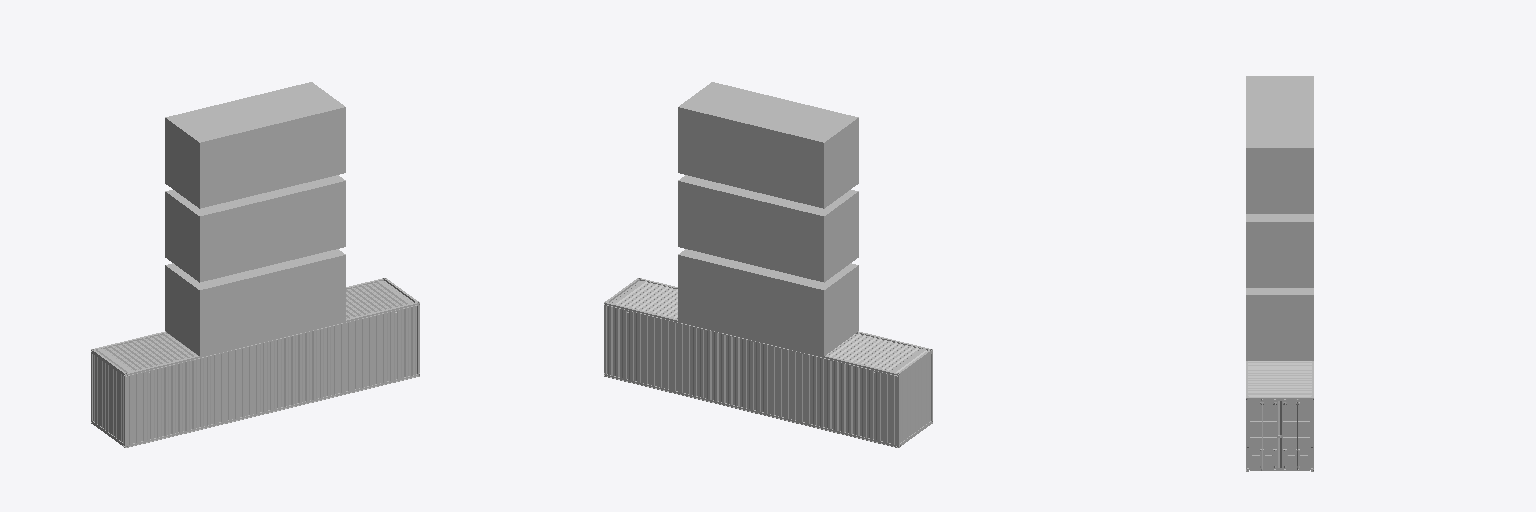
3 renders of one model, left to right at view 1: azimuth 30°, elevation 25°; view 2: azimuth 150°, elevation 25°; view 3: azimuth 270°, elevation 25°, orthographic.
Visible parts, largest first — view 1: SHELL, CARGO_ITEMS_3_IRSIZE, CARGO_ITEMS_1_IRSIZE, CARGO_ITEMS_2_IRSIZE, FRAME; view 2: SHELL, CARGO_ITEMS_3_IRSIZE, CARGO_ITEMS_1_IRSIZE, CARGO_ITEMS_2_IRSIZE, FRAME; view 3: CARGO_ITEMS_3_IRSIZE, FRAME, CARGO_ITEMS_2_IRSIZE, CARGO_ITEMS_1_IRSIZE, SHELL.
Boxes of the visible parts, x1=… form: SHELL: x1=93, y1=281, x2=416, y2=444; CARGO_ITEMS_3_IRSIZE: x1=165, y1=82, x2=345, y2=208; CARGO_ITEMS_1_IRSIZE: x1=165, y1=249, x2=345, y2=355; CARGO_ITEMS_2_IRSIZE: x1=165, y1=175, x2=345, y2=282; FRAME: x1=91, y1=278, x2=419, y2=447; SHELL: x1=607, y1=281, x2=930, y2=444; CARGO_ITEMS_3_IRSIZE: x1=678, y1=82, x2=858, y2=208; CARGO_ITEMS_1_IRSIZE: x1=678, y1=249, x2=858, y2=355; CARGO_ITEMS_2_IRSIZE: x1=678, y1=175, x2=858, y2=282; FRAME: x1=604, y1=278, x2=932, y2=447; CARGO_ITEMS_3_IRSIZE: x1=1246, y1=76, x2=1313, y2=213; FRAME: x1=1246, y1=361, x2=1313, y2=471; CARGO_ITEMS_2_IRSIZE: x1=1246, y1=214, x2=1313, y2=287; CARGO_ITEMS_1_IRSIZE: x1=1246, y1=288, x2=1313, y2=360; SHELL: x1=1248, y1=361, x2=1311, y2=396.
Size of the model in its own units: 12.13 by 11.28 by 2.45.